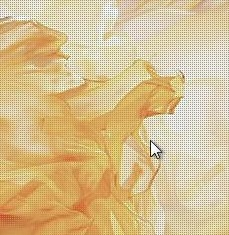cursor: (147, 138, 164, 162)
